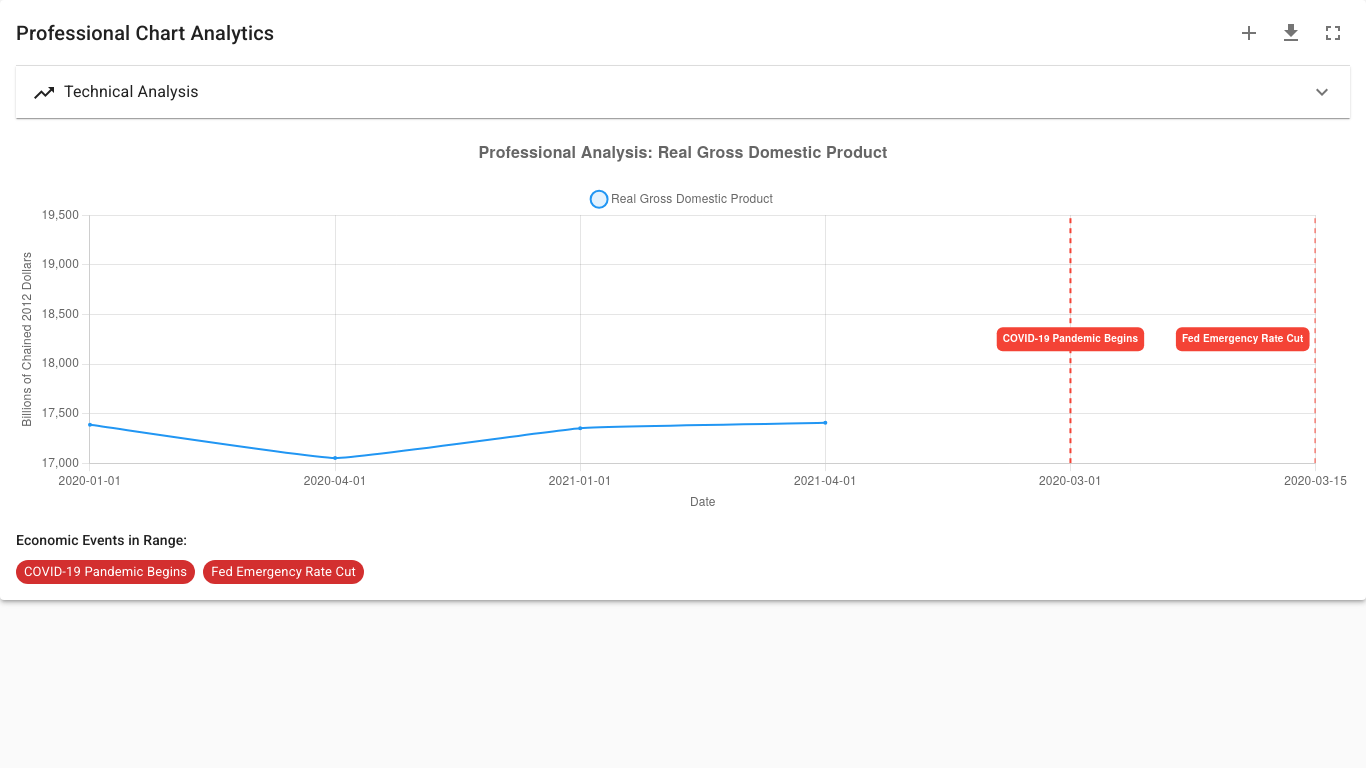
ProfessionalChart › Technical Analysis Features › shows technical analysis controls when enabled
Expected: the heading "Technical Analysis" is shown, [32,78,199,106]
Note: Expand the accordion to access controls
Click the button "Technical Analysis" at (131, 92), box [32,80,1334,105]
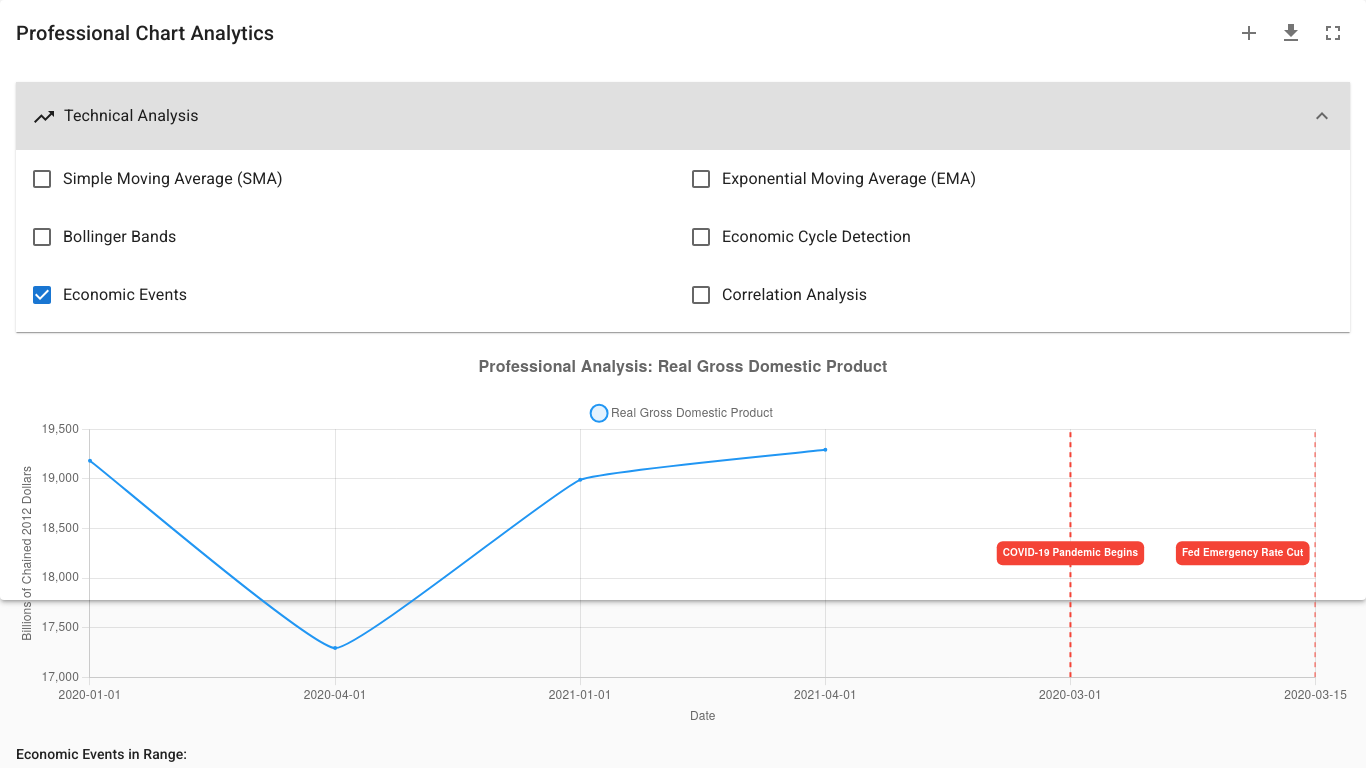
Result: the text "Simple Moving Average (SMA)" is shown at [63,167,283,191]
Result: the text "Bollinger Bands" is shown at [63,225,176,249]
